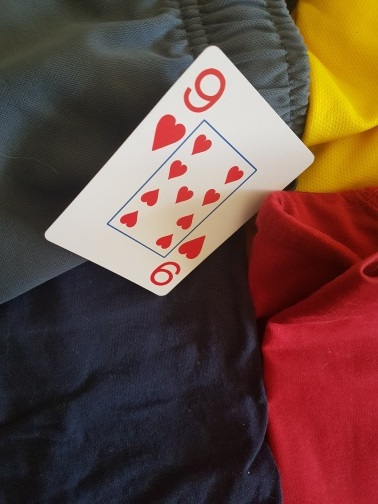nine: (44, 48, 317, 300)
